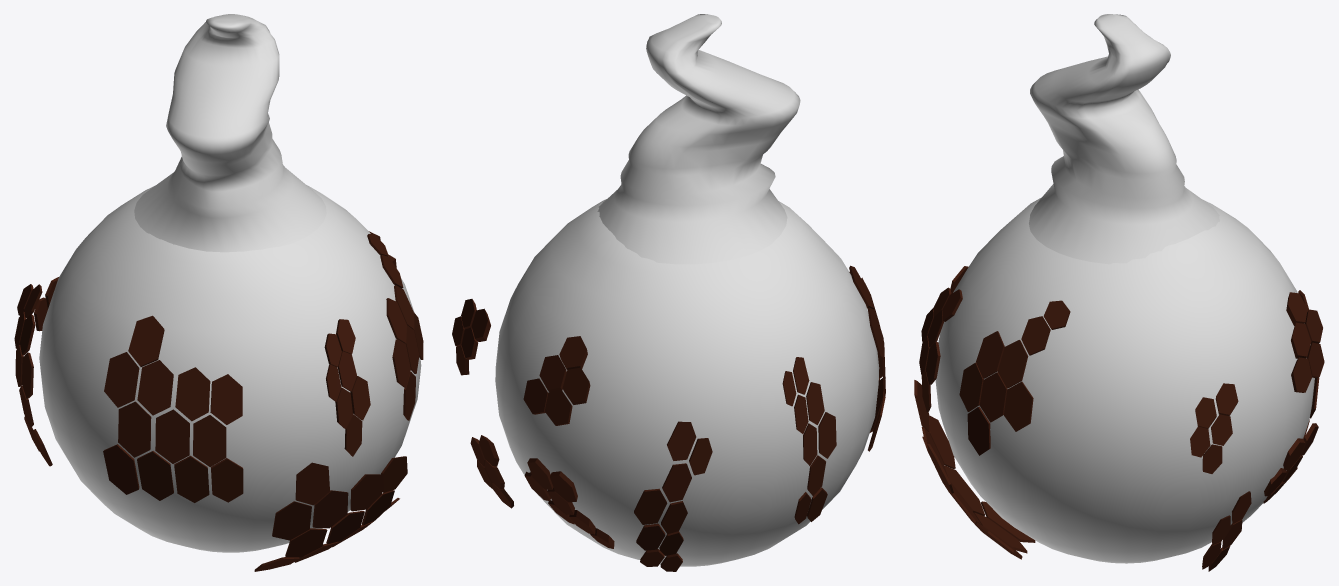
The model's file is soul eater soul.fbx.
3 renders of one model, left to right at view 1: azimuth 30°, elevation 25°; view 2: azimuth 150°, elevation 25°; view 3: azimuth 270°, elevation 25°, orthographic.
Visible parts, largest first — view 1: Sphere; view 2: Sphere; view 3: Sphere.
Boxes of the visible parts, box(x1,y1,x2,y2) form: Sphere: box(14, 14, 423, 571); Sphere: box(452, 14, 885, 571); Sphere: box(914, 14, 1324, 571).
Size of the model in its own units: 507 by 677 by 483.
